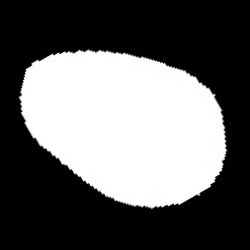spot: (19, 50, 228, 209)
